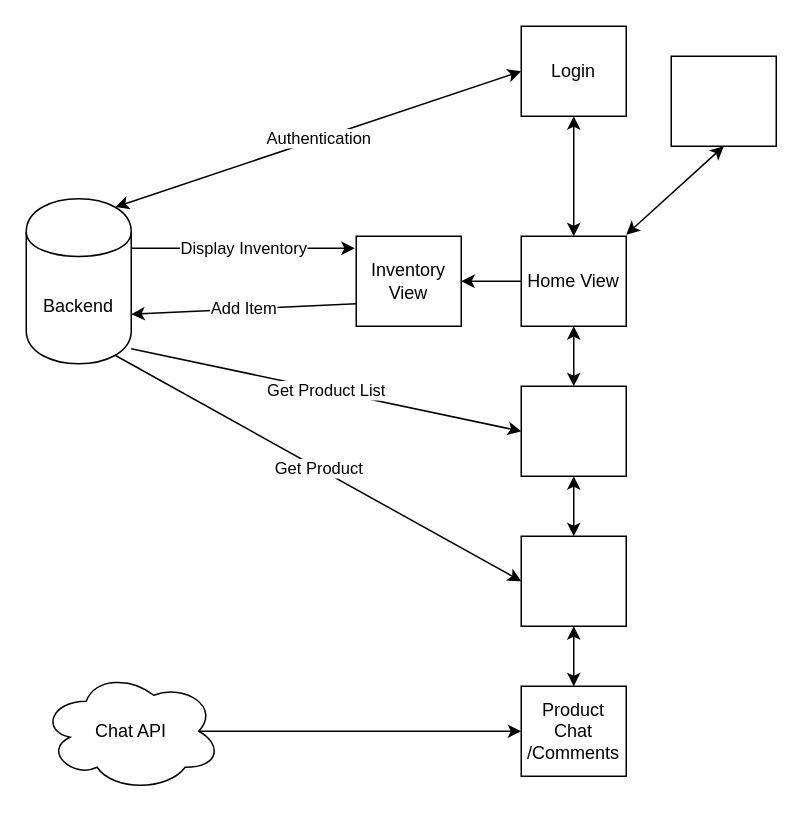
The diagram is 803 pixels wide and 818 high, and some of its shapes have lost their labels. Here are the shapes that lost their labels. From the top down, the box of each, then its label:
(670, 55, 776, 146): Profile View
(520, 385, 626, 476): Product Browser
(520, 535, 626, 626): Product View
